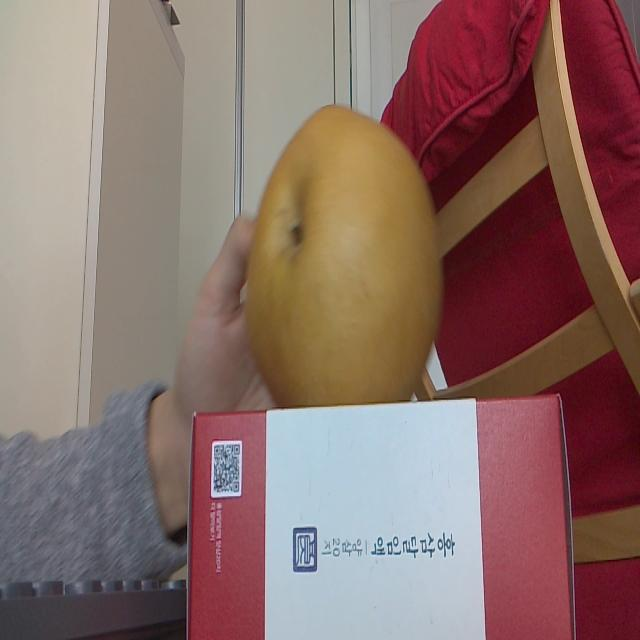pear: (246, 100, 440, 406)
